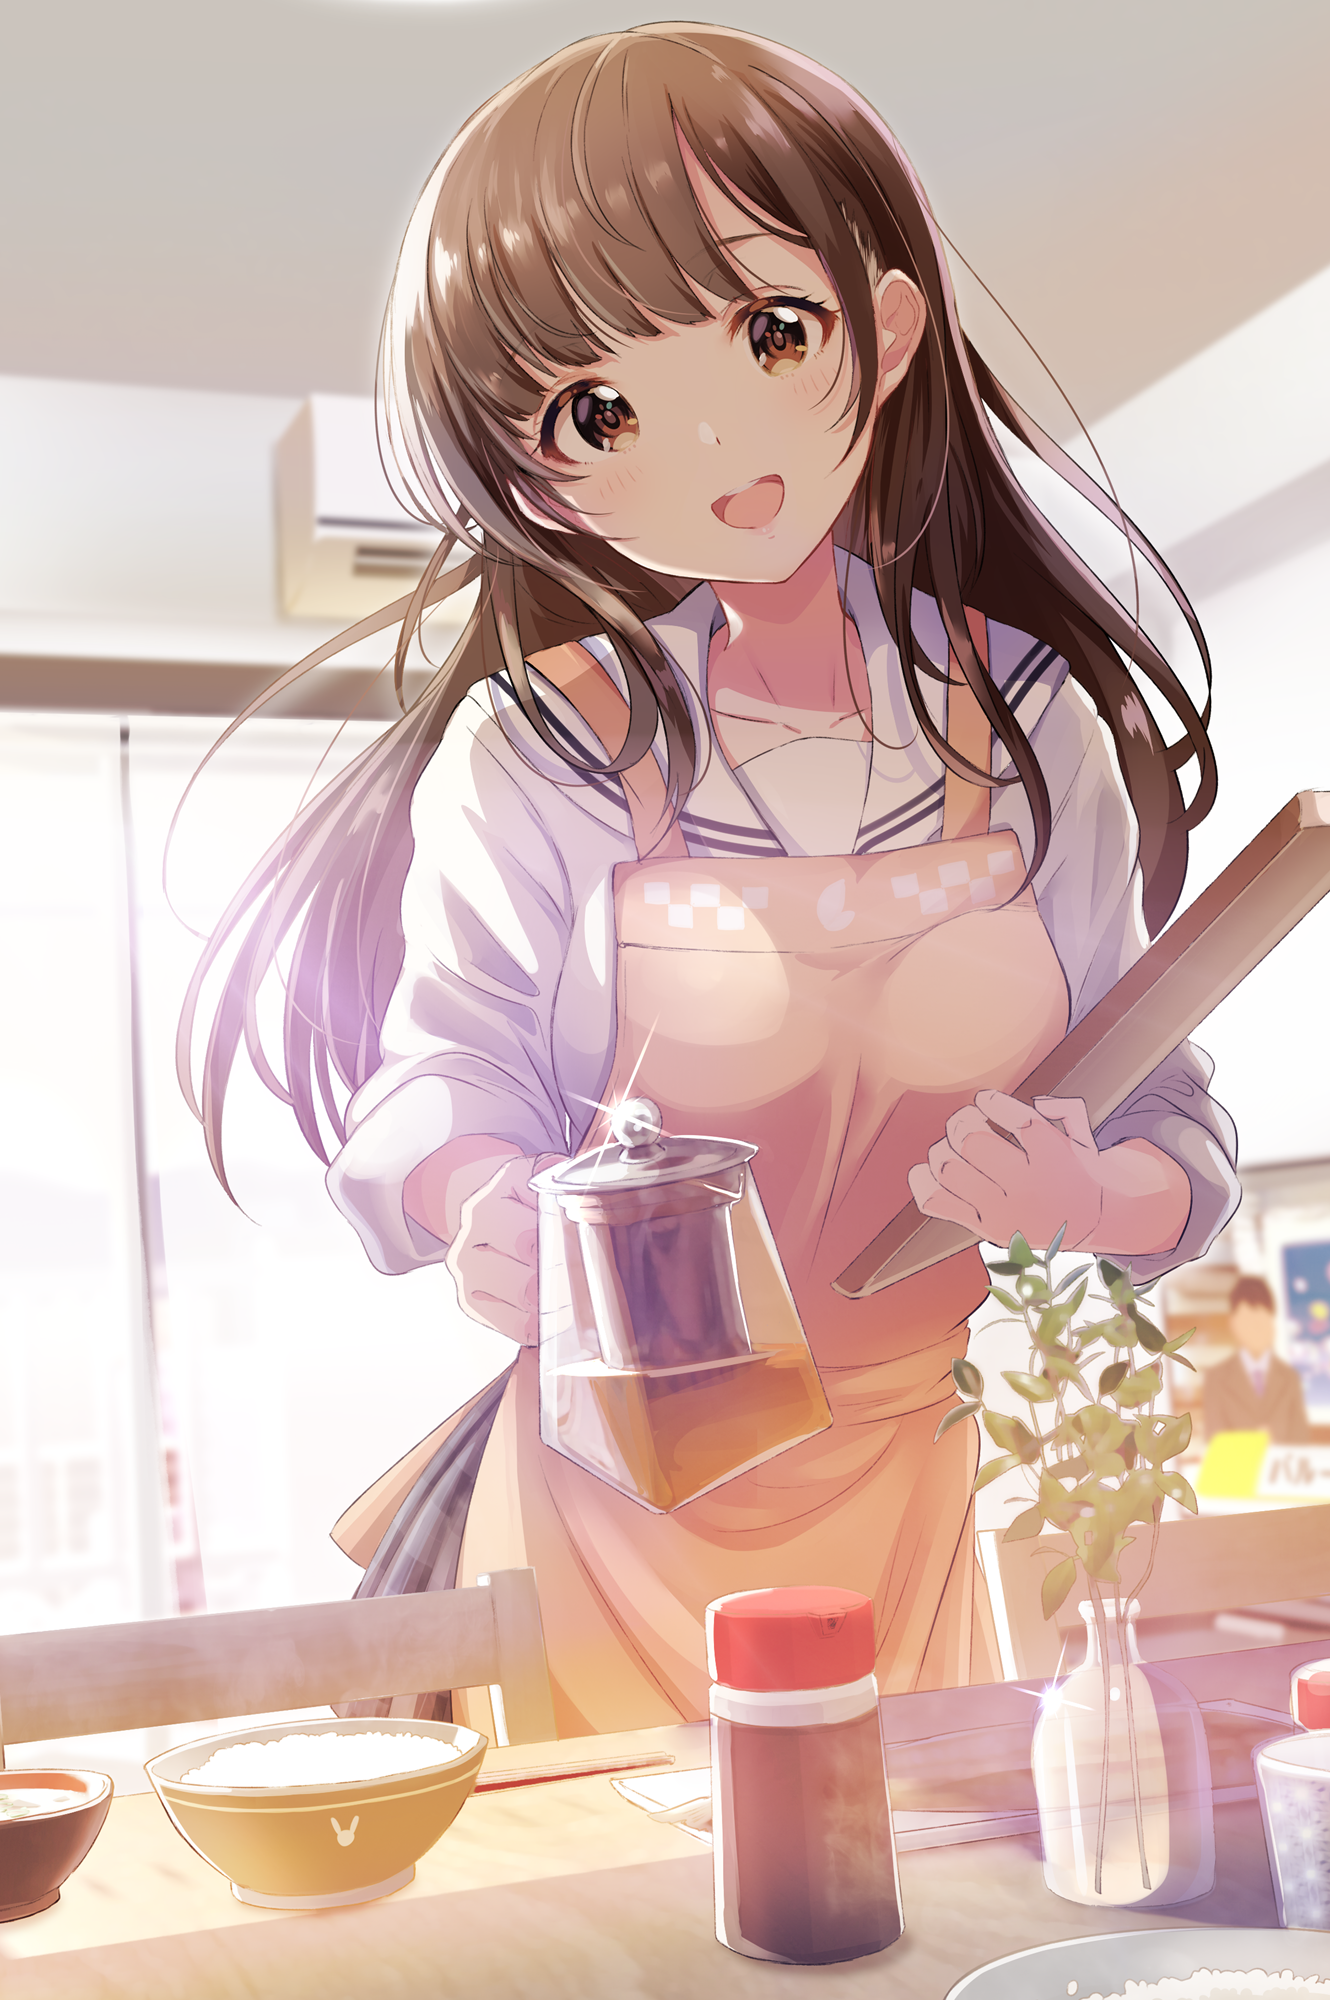纸片人正脸: (373, 8, 973, 598)
